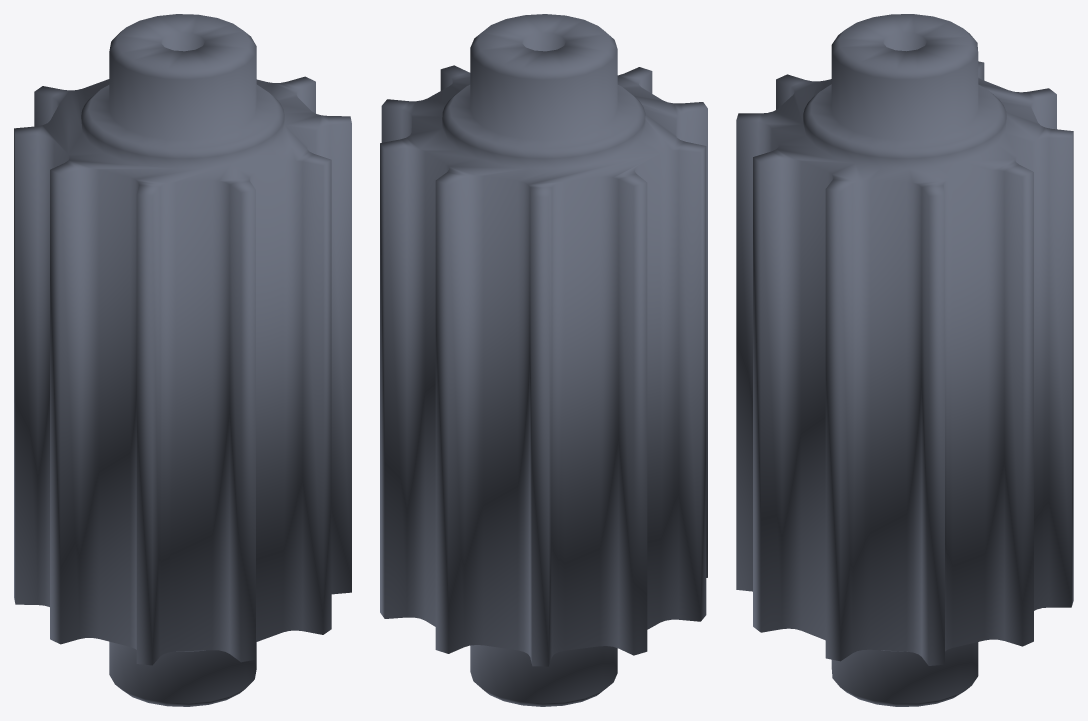
File: solo_upper_leg_left_side_15.obj
3 renders of one model, left to right at view 1: azimuth 30°, elevation 25°; view 2: azimuth 150°, elevation 25°; view 3: azimuth 270°, elevation 25°, orthographic.
Size of the model in its own units: 0.00905 by 0.019 by 0.00911.
